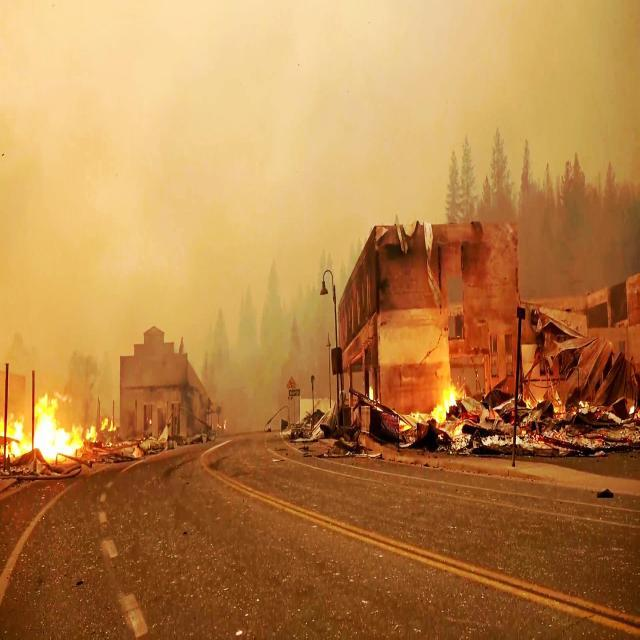Fire: (18, 392, 76, 458)
